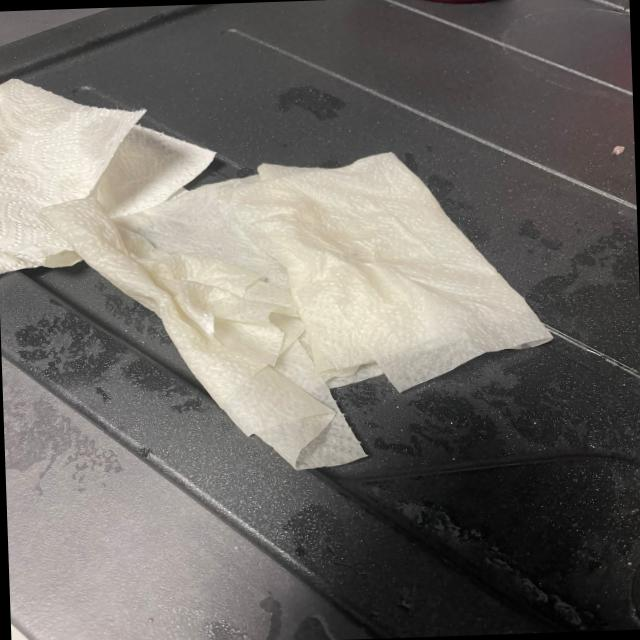organic waste: (36, 137, 570, 481), (0, 61, 219, 271)
